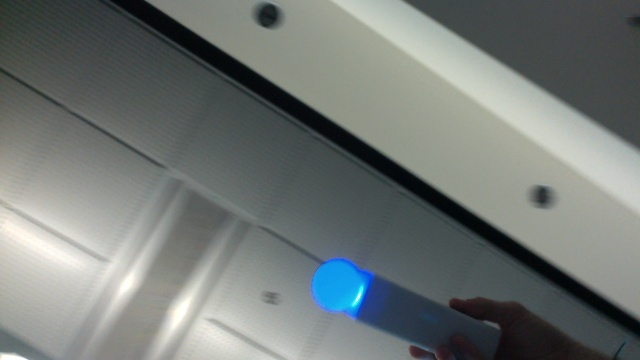wand: (312, 257, 363, 312)
